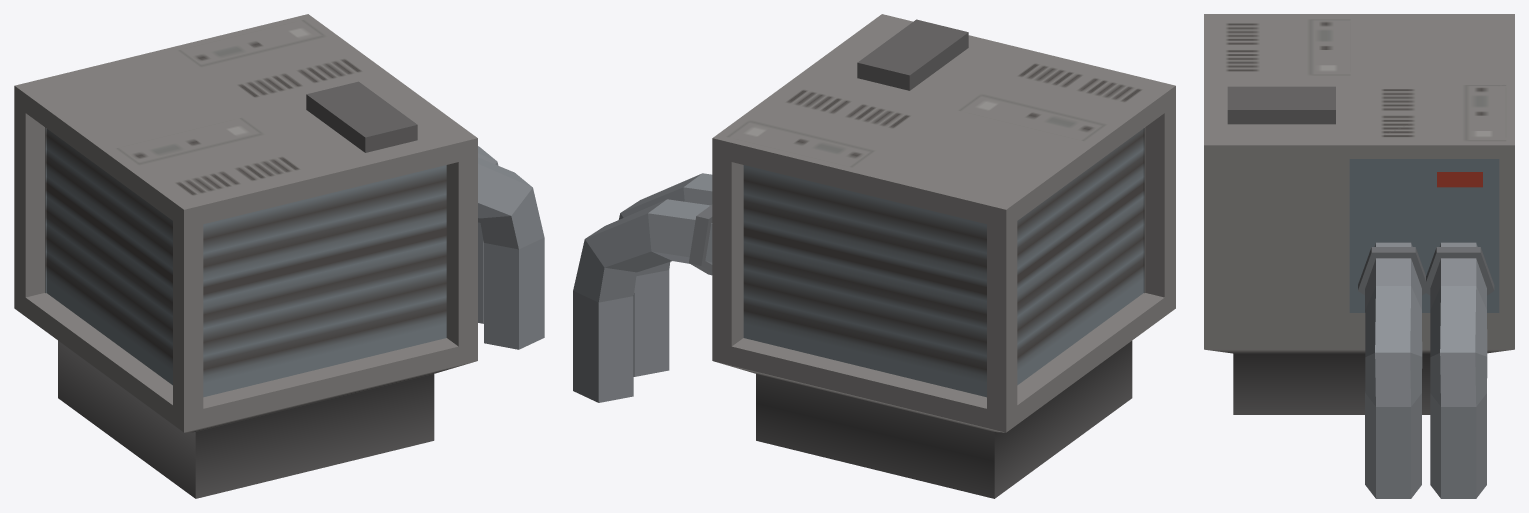
The model's file is SM_Prop_Aircon_Roof_03.fbx.
3 views of the same model, side by side, from view 1: azimuth 30°, elevation 25°; view 2: azimuth 150°, elevation 25°; view 3: azimuth 270°, elevation 25° (orthographic). The views are drawn at different scales.
Parts seen in each view (by area): view 1: SM_Prop_Aircon_Roof_03; view 2: SM_Prop_Aircon_Roof_03; view 3: SM_Prop_Aircon_Roof_03.
Part boxes in pixels (<box>): SM_Prop_Aircon_Roof_03: <box>14,14,544,498</box>; SM_Prop_Aircon_Roof_03: <box>573,14,1175,498</box>; SM_Prop_Aircon_Roof_03: <box>1204,14,1514,498</box>.
Bounding box in the file's own units: 155 × 105 × 100.
1 material, 1 textured.
